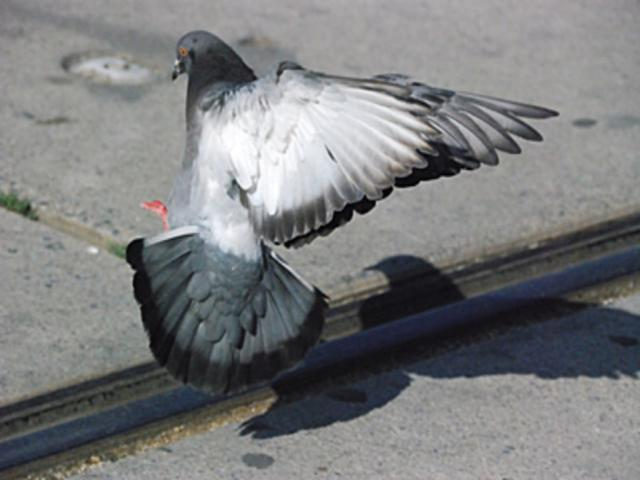Bird: (124, 28, 562, 398)
